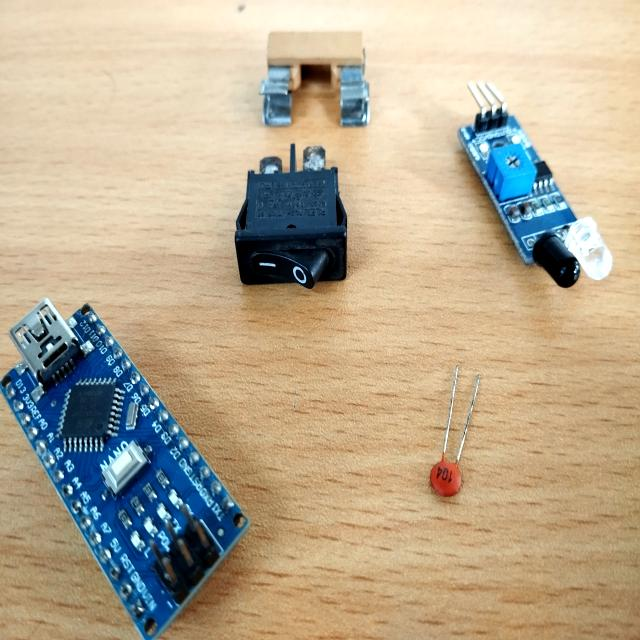capacitor: (429, 431, 464, 497)
